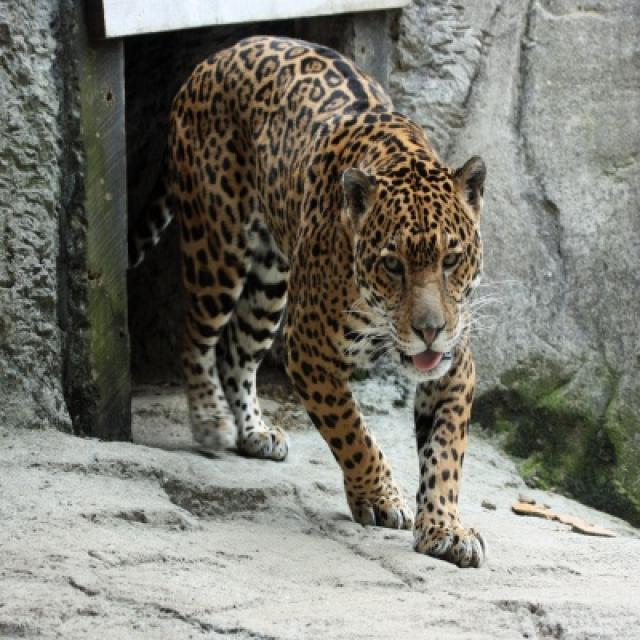Jaguar: (149, 37, 486, 570)
